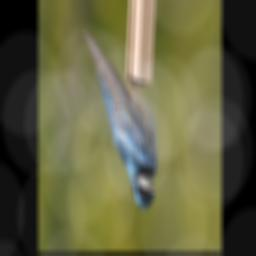Swallow: (83, 25, 159, 215)
